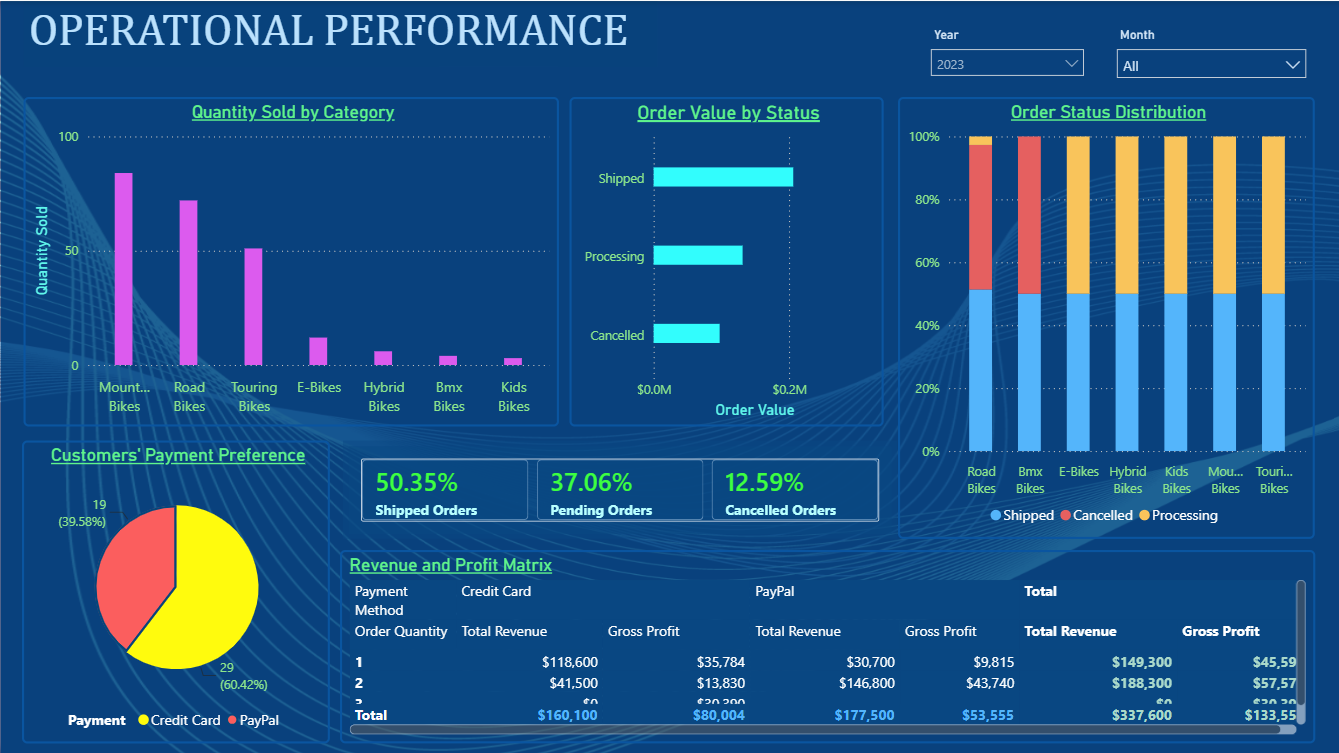

What the dashboard file says about the page in this screenshot:
{"tool":"powerbi","page":{"name":"Operational Performance","canvas":[1280,720],"ordinal":2},"visuals":[{"type":"clusteredBarChart","title":"Order Value by Status","fields":{"Category":["Sales.Order Status"],"Y":["Sum(Sales.Order Value)"]},"box":[542.9,91.6,300,314.6],"z":0},{"type":"clusteredColumnChart","fields":{"Category":["Sales.Product Category "],"Y":["Sum(Sales.Order Quantity)"]},"box":[21.2,91.6,511,314.6],"z":1000},{"type":"pivotTable","title":"Revenue and Profit Matrix","fields":{"Columns":["Sales.Payment Method"],"Rows":["Sales.Order Quantity"],"Values":["Sum(Sales.Sales Amount)","Sum(Sales.Profit)"]},"box":[323.2,524.8,931.3,184.9],"z":2000},{"type":"cardVisual","fields":{"Data":["Measure.Shipped Orders","Measure.Under Process","Measure.Cancelled Orders"]},"box":[326.5,419.4,529.6,94.2],"z":4000},{"type":"slicer","fields":{"Values":["Date.Year"]},"box":[878.7,19.9,165.9,71.7],"z":5000},{"type":"slicer","fields":{"Values":["Date.Month"]},"box":[1055.2,19.9,200.4,71.7],"z":6000},{"type":"columnChart","title":"Order Status Distribution","fields":{"Category":["Sales.Product Category "],"Y":["Measure.Shipped Orders","Measure.Cancelled Orders","Measure.Under Processing"]},"box":[856.1,91.6,398.2,422.1],"z":7000},{"type":"pieChart","title":"Customers'' Payment Preference","fields":{"Category":["Sales.Payment Method"],"Y":["Measure.Customers"]},"box":[20.7,419.9,294.3,289.5],"z":8000},{"type":"textbox","box":[21.2,0,605.3,62.4],"z":8001}]}

Visuals, with their boxes in screenshot pixels (x1, y1, x2, y2), scaled from the page's 1280x720 canvas onto the 1339x753 screenshot:
"Order Value by Status" clusteredBarChart: [left=568, top=96, right=882, bottom=425]
clusteredColumnChart - Sales.Product Category  x Sum(Sales.Order Quantity): [left=22, top=96, right=557, bottom=425]
"Revenue and Profit Matrix" pivotTable: [left=338, top=549, right=1312, bottom=742]
cardVisual - Measure.Shipped Orders x Measure.Under Process: [left=342, top=439, right=896, bottom=537]
slicer - Date.Year: [left=919, top=21, right=1093, bottom=96]
slicer - Date.Month: [left=1104, top=21, right=1313, bottom=96]
"Order Status Distribution" columnChart: [left=896, top=96, right=1312, bottom=537]
"Customers'' Payment Preference" pieChart: [left=22, top=439, right=330, bottom=742]
textbox: [left=22, top=0, right=655, bottom=65]
